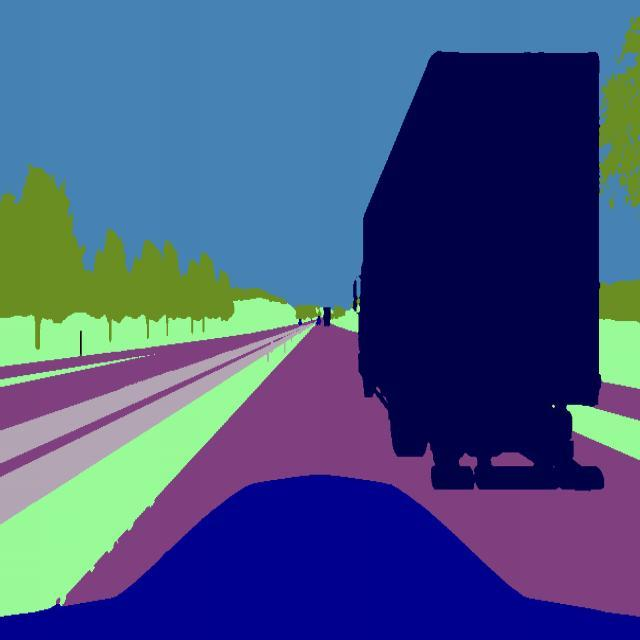safe: (322, 302, 334, 328)
unsafe: (351, 45, 607, 502)
